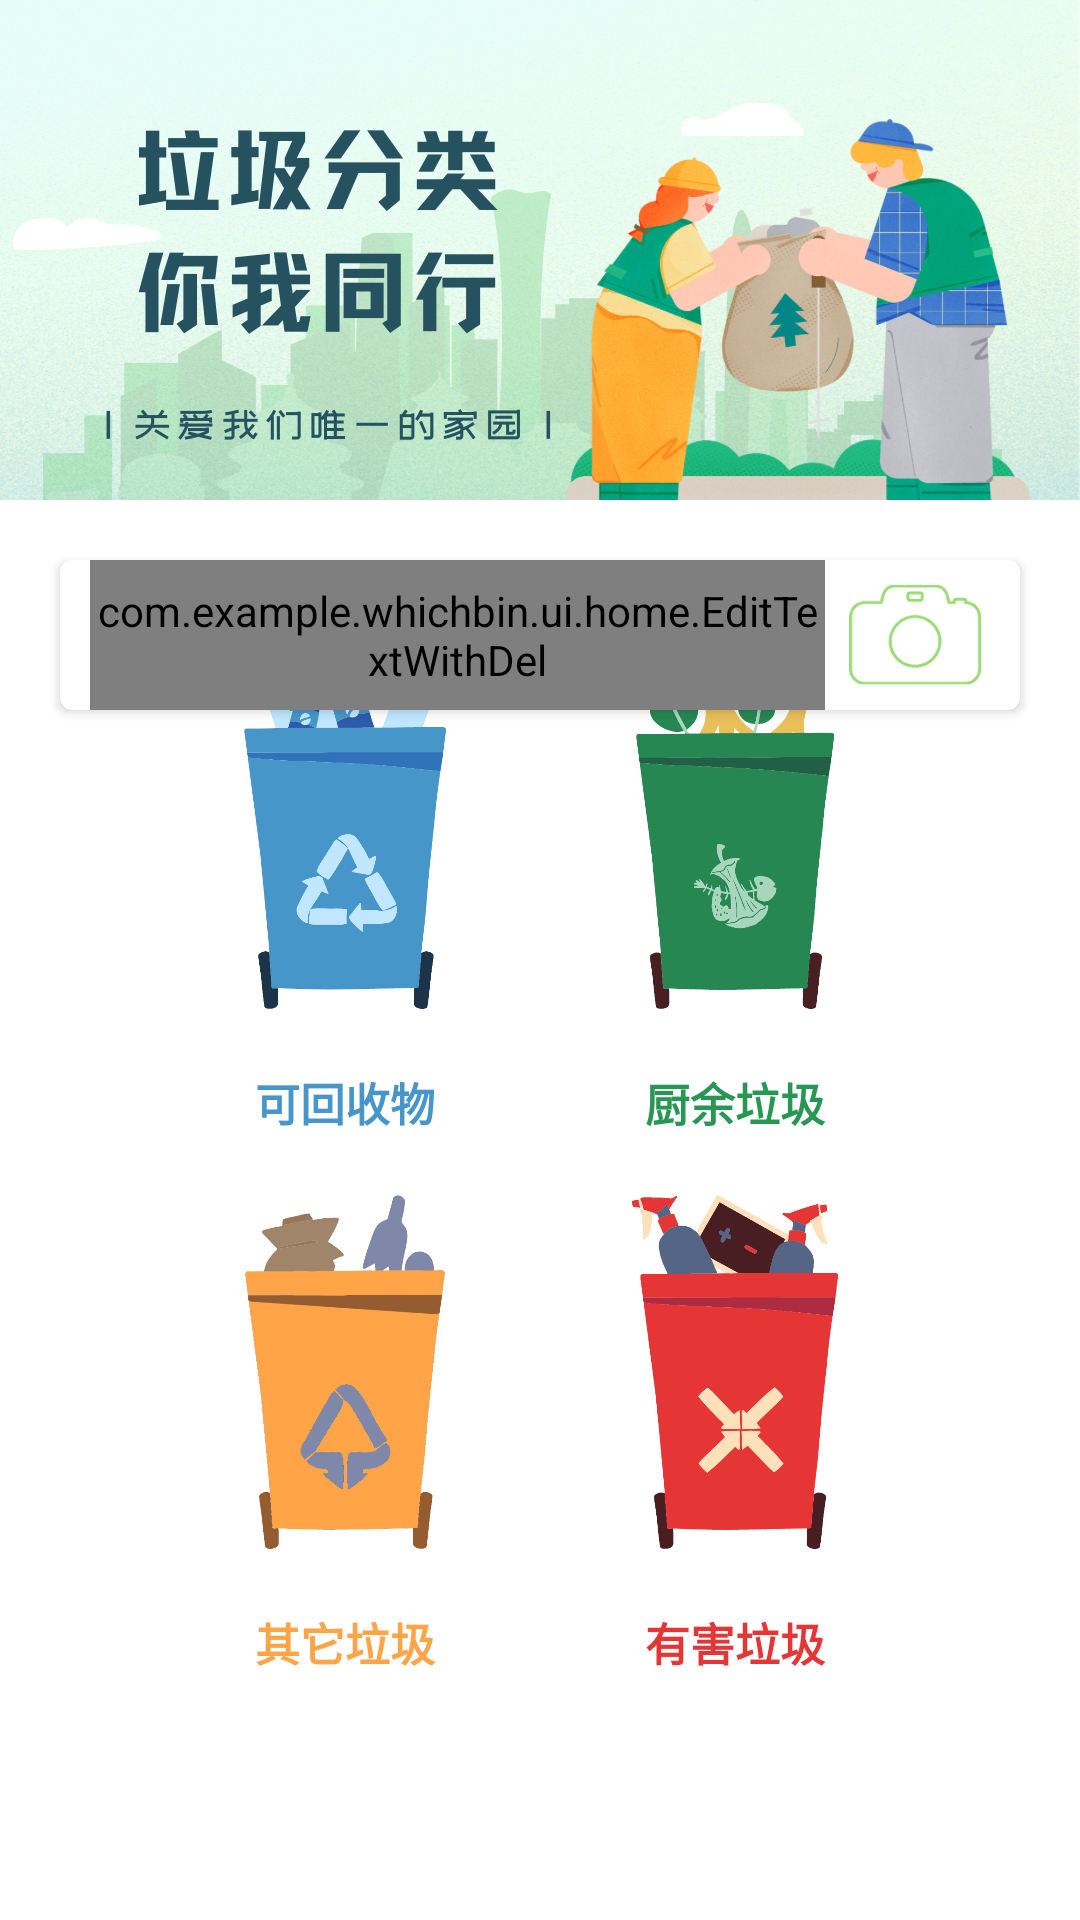

Screen size 1080*1920. Icon name, then its box in pixels as bbox=[x1, y1, x2, y2]:
photo: bbox=[849, 585, 981, 685]
